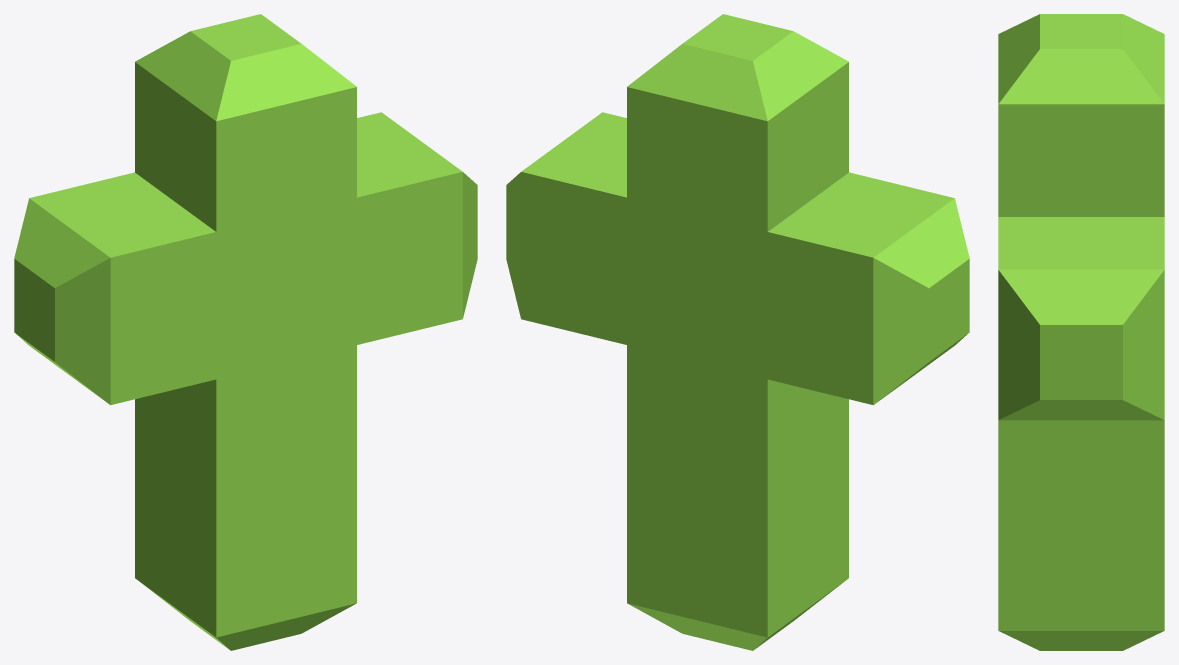
The model's file is heal.obj.
3 renders of one model, left to right at view 1: azimuth 30°, elevation 25°; view 2: azimuth 150°, elevation 25°; view 3: azimuth 270°, elevation 25°, orthographic. The views are drawn at different scales.
Parts seen in each view (by area): view 1: Cube.001; view 2: Cube.001; view 3: Cube.001.
Boxes of the visible parts, bbox=[...] form: Cube.001: bbox=[14, 14, 477, 650]; Cube.001: bbox=[506, 14, 969, 650]; Cube.001: bbox=[998, 14, 1164, 650].
Bounding box in the file's own units: 6 × 8 × 2.
1 material, 1 textured.
